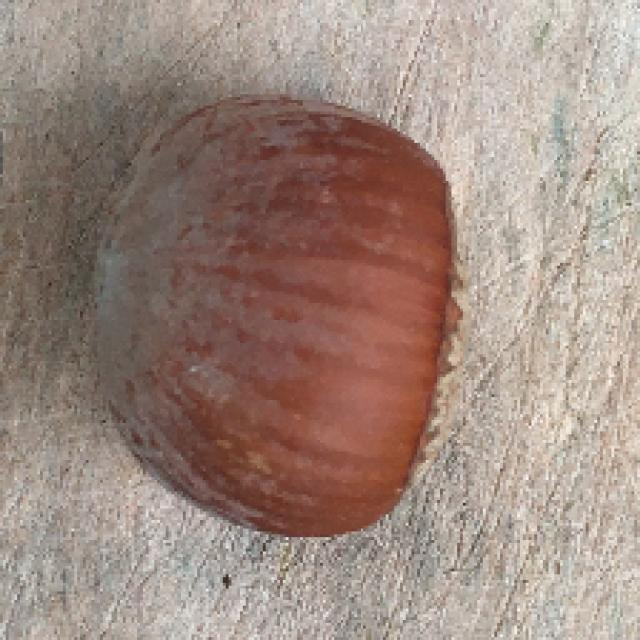qualityHazelnut: (81, 88, 462, 545)
